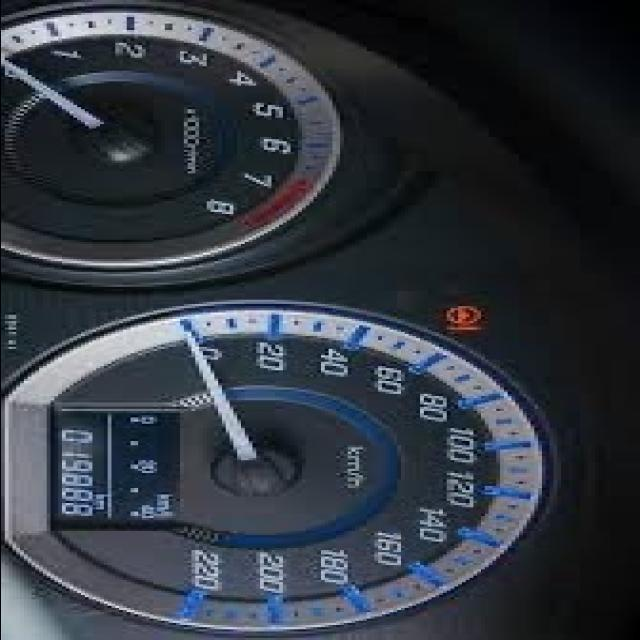Electronic Power Steering: (444, 302, 485, 336)
